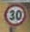limite 30: (3, 2, 27, 26)
